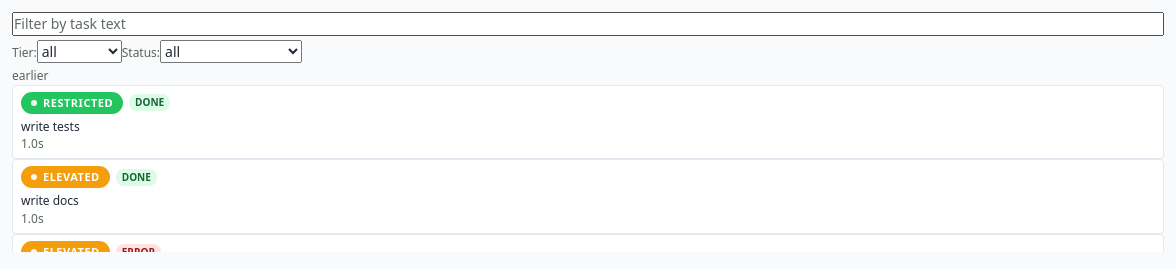
RunHistory › combined text + tier + status filters intersect
This screenshot has width=1176, height=269.
Step 1. Type "write" into the field named "filter runs by task text" → (588, 24), box [12,12,1164,36]
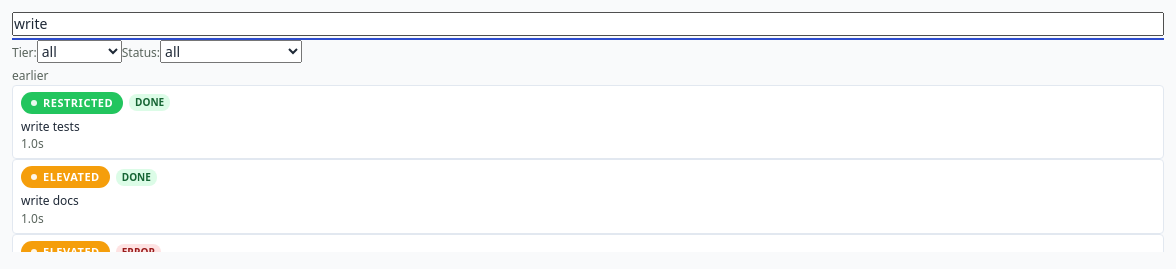
Step 2. Select "elevated" in the dropdown named "filter by tier" → (79, 52), box [37,40,122,63]
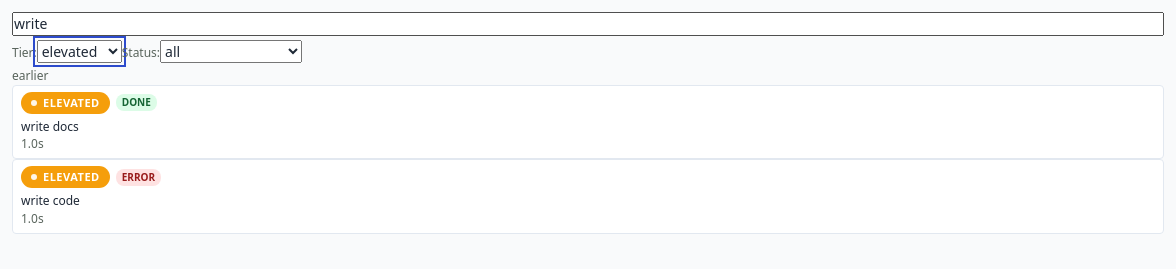
Step 3. Select "done" in the dropdown named "filter by status" → (231, 52), box [160,40,302,63]
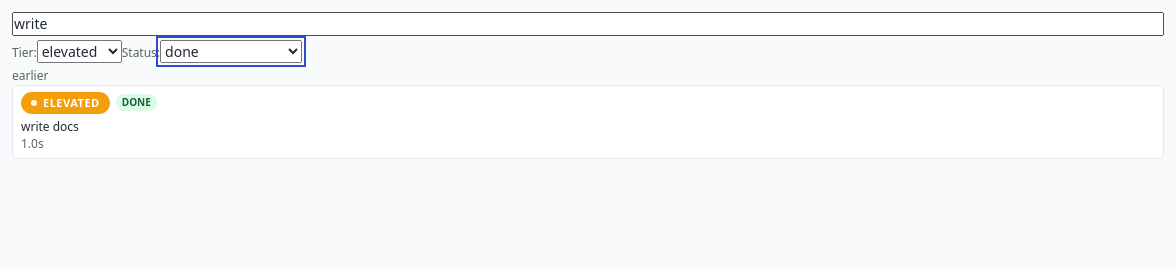
Expected: the text "write docs" is shown, [21,118,79,135]
Now the text "write code" is gone
